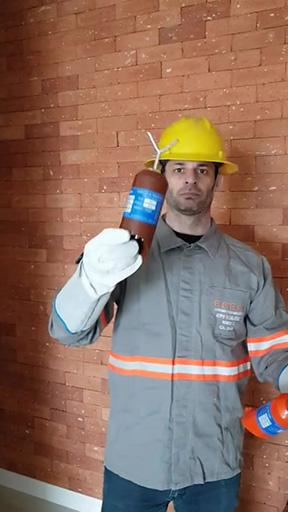Detector_Tensao_Contato: (116, 133, 181, 256)
